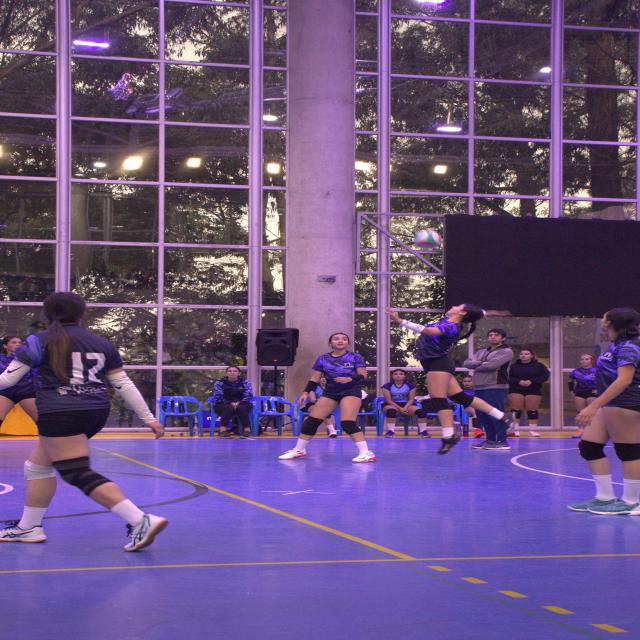volleyball: (415, 230, 441, 248)
